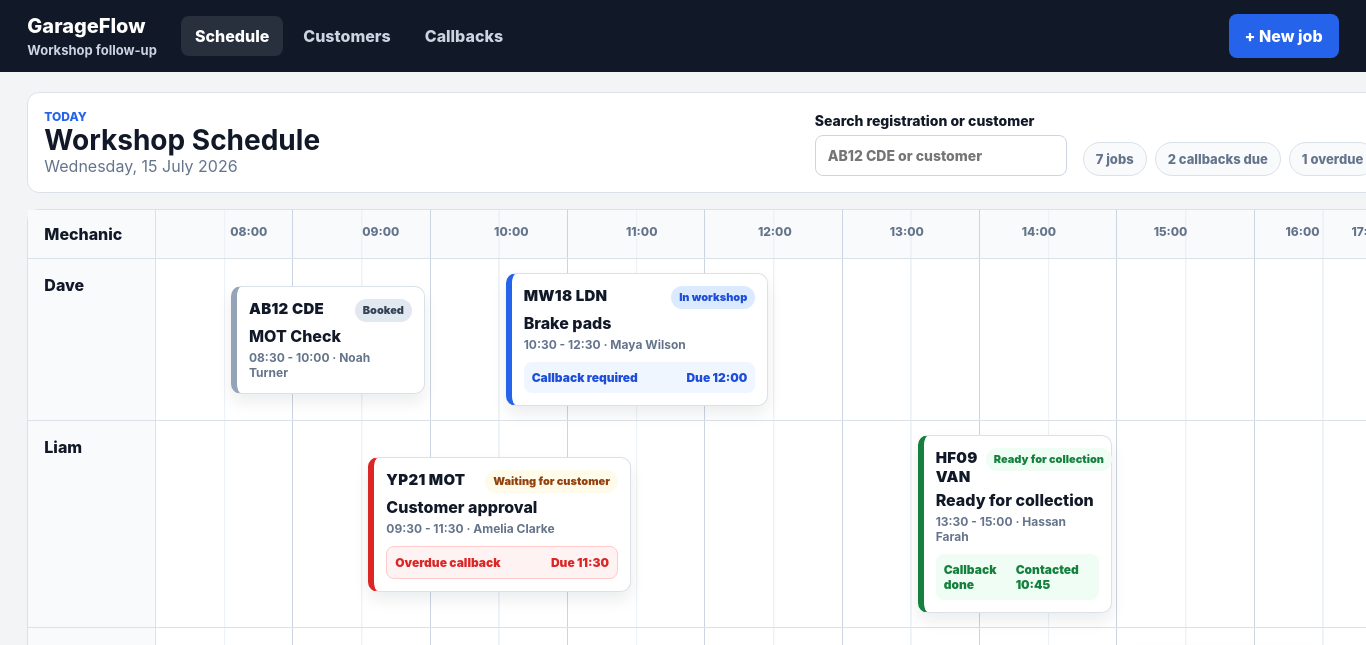
Test: WorkshopTimeline › cancel job changes an active job to cancelled
Expected: the header named "GarageFlow workspace" is shown, [0,0,1365,72]
Click the button that starts with "MW18 LDN".
click(639, 340)  # box [524,286,755,393]
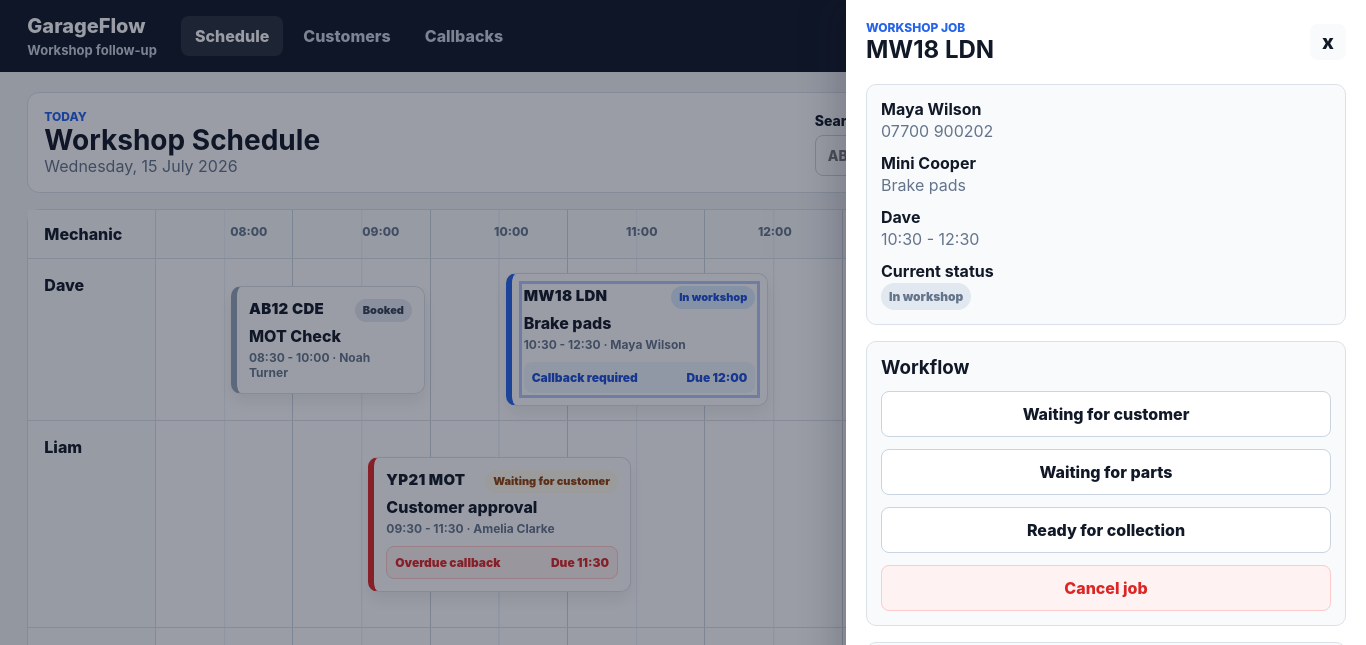
Click the button "Cancel job".
click(1106, 588)  # box [881,565,1331,611]
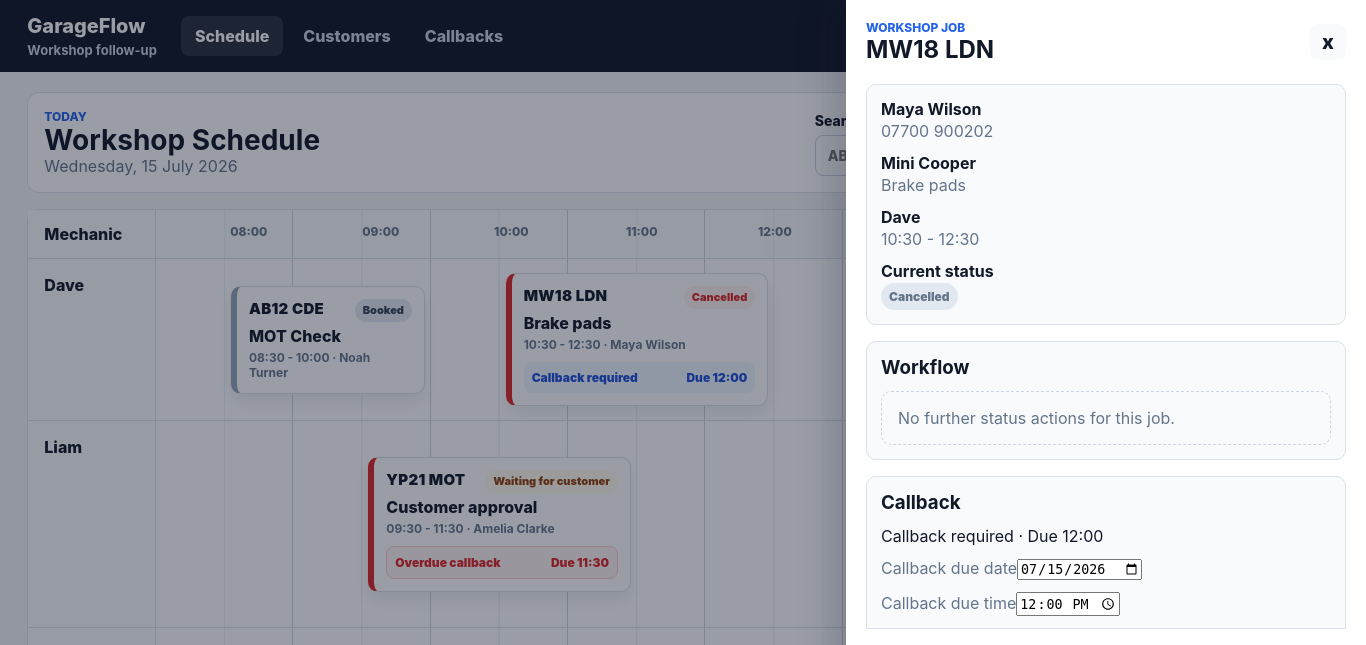
Expected: the element named "Job details" shows "Cancelled", [889,289,950,304]
